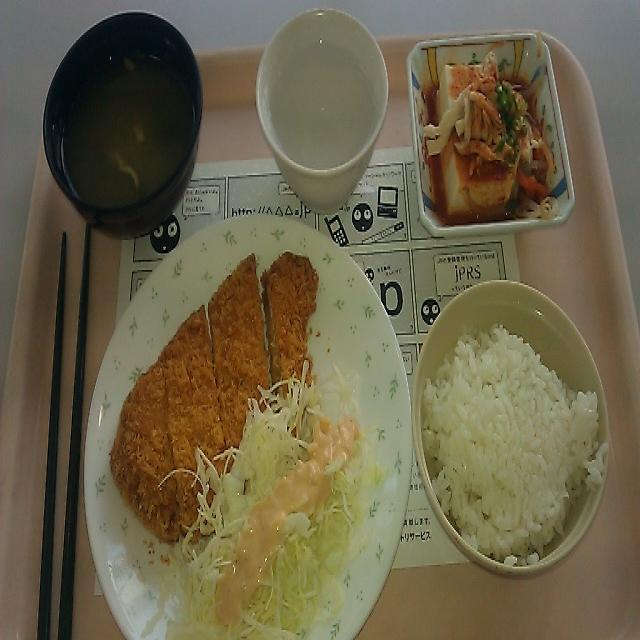Rice: (423, 308, 613, 564)
